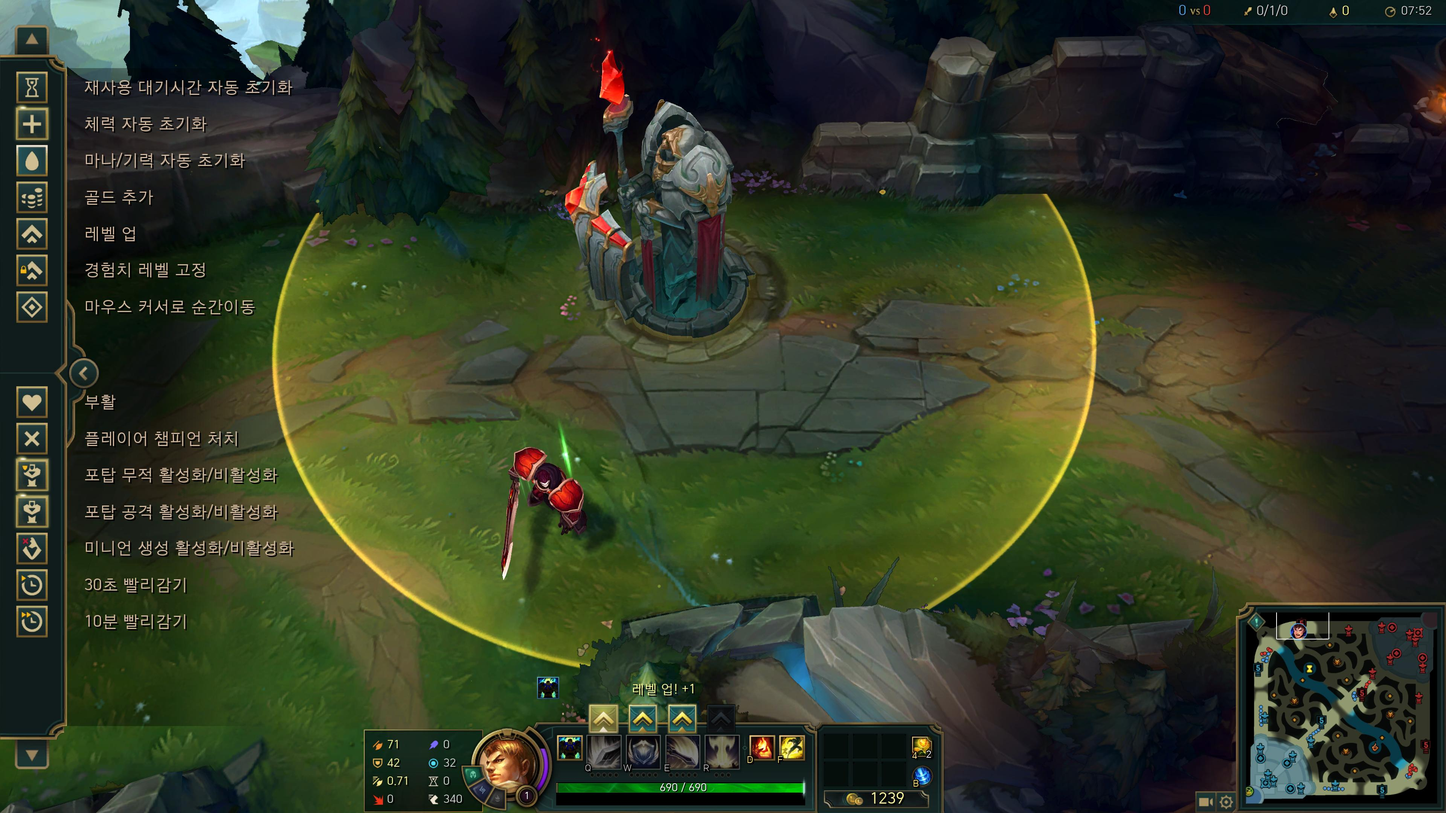enemy-tower: (561, 50, 773, 359)
